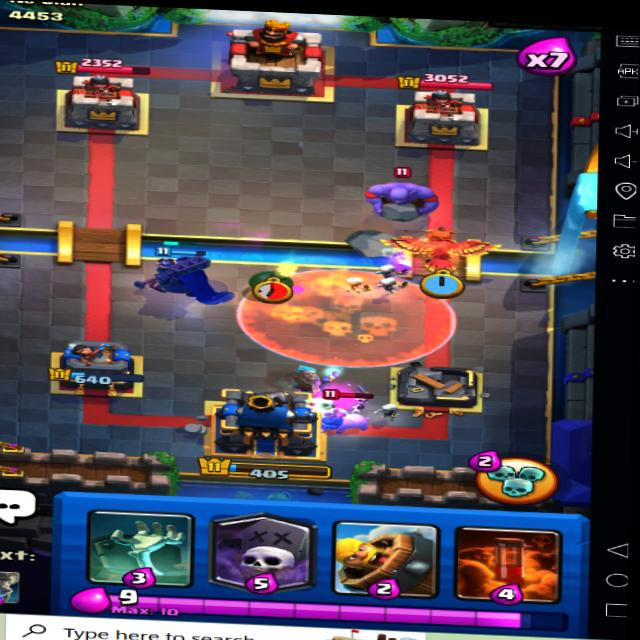bowler: (362, 163, 443, 223)
royal-hogs: (318, 407, 379, 432)
